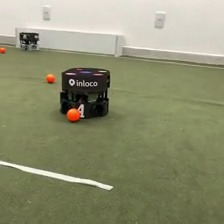ball: (65, 107, 82, 123), (44, 72, 56, 84), (1, 45, 6, 53)
goal: (13, 26, 125, 58)
robot: (58, 65, 112, 119), (18, 30, 41, 52)
